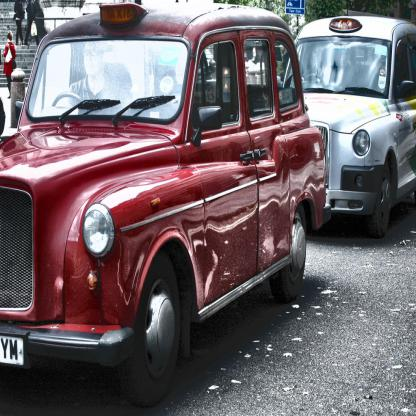Car: (0, 2, 331, 409), (282, 15, 415, 240)
